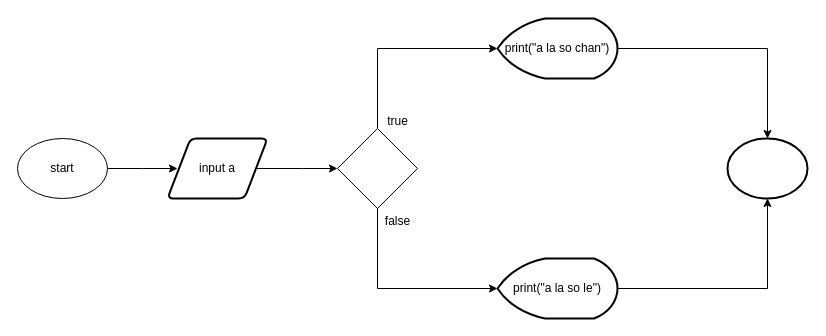
Image size: 826x336. Some labels were removed from this diagram. The shapes that lost their labels are listed below. From the top down, each one's centre as x and y in pixels, then its label:
At (377,168): "a % 2 ==0".
At (767,168): "end".
